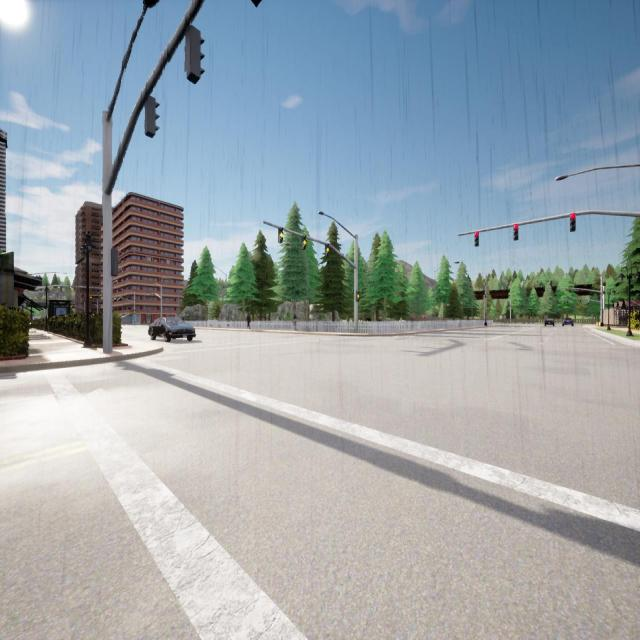Pedestrian: (292, 310, 297, 330), (246, 312, 251, 330)
Traffic_Signs: (499, 315, 502, 319)
Vehicle: (149, 317, 195, 342), (562, 318, 574, 327), (545, 318, 554, 326)
traffic_light: (186, 26, 205, 84), (145, 96, 160, 138), (111, 248, 118, 274), (570, 214, 576, 231), (301, 234, 306, 250), (278, 228, 283, 242), (514, 224, 518, 240), (325, 243, 329, 256), (475, 232, 479, 245), (356, 290, 359, 301), (134, 310, 136, 314), (569, 288, 571, 292), (90, 295, 92, 298), (114, 297, 116, 300), (101, 296, 103, 299), (567, 299, 568, 303), (580, 298, 581, 302), (558, 300, 558, 302)
